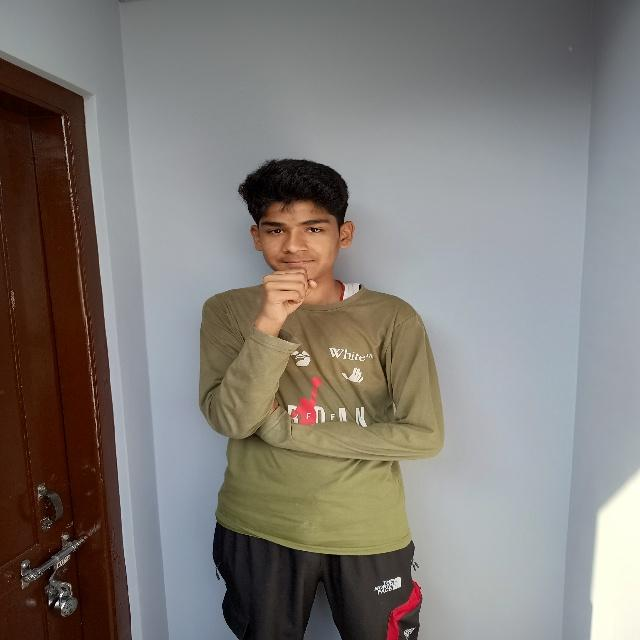Fist Mouth: (236, 161, 366, 340)
